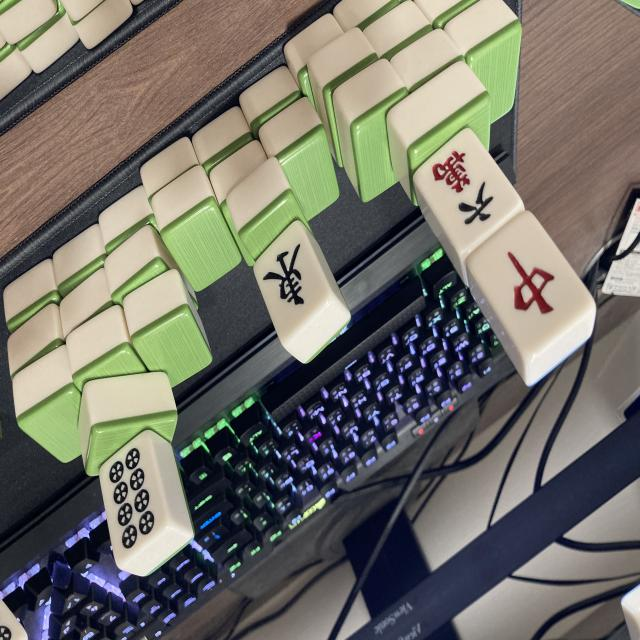east: (244, 220, 342, 337)
m6: (406, 124, 528, 264)
t8: (102, 440, 171, 566)
zhong: (462, 205, 601, 362)
